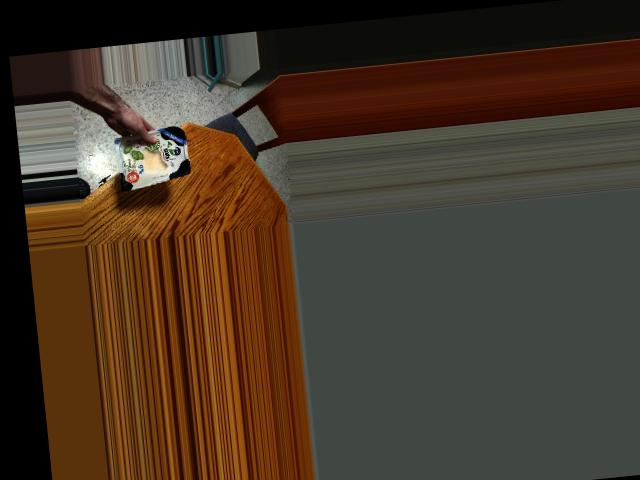cheese: (105, 120, 202, 192)
